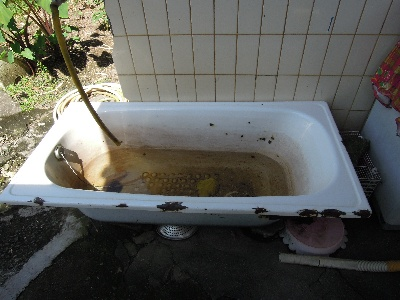tub: (1, 100, 373, 228)
